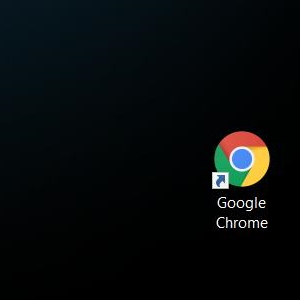chrome: (211, 130, 269, 189)
